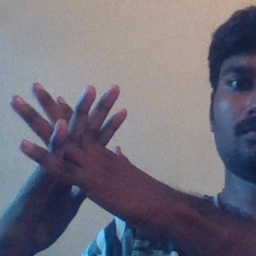W: (7, 71, 143, 223)
